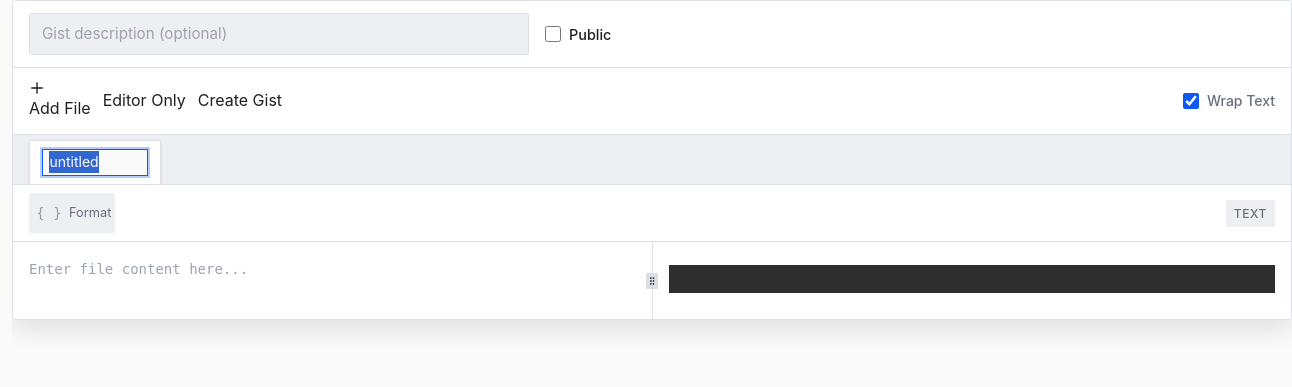
it: GistEditor Component › Form submission › shows validation error when files are empty
What coordinates should you click on to do the following:
click the button "Create Gist"
I would click on:
 (240, 101)
Its box is left=198, top=88, right=282, bottom=114.
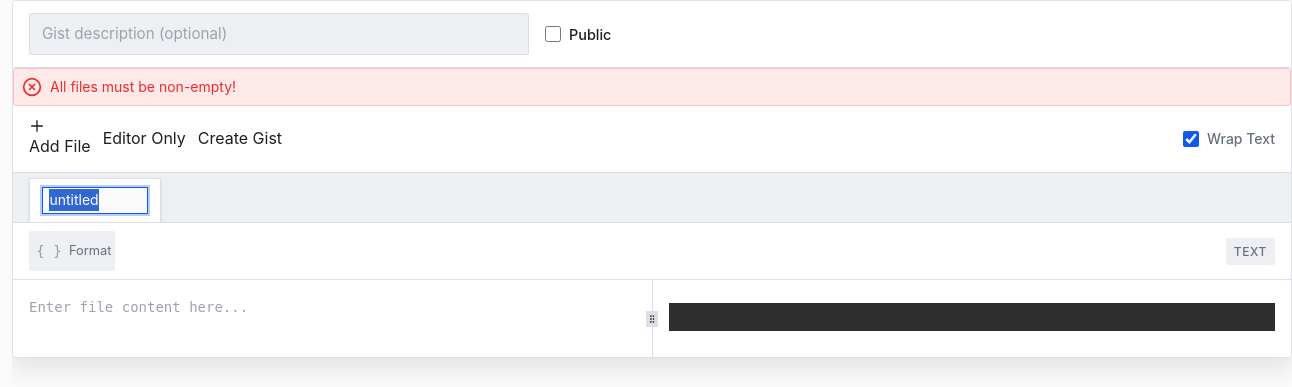
Now the text "All files must be non-empty!" is shown, box left=50, top=78, right=236, bottom=95
